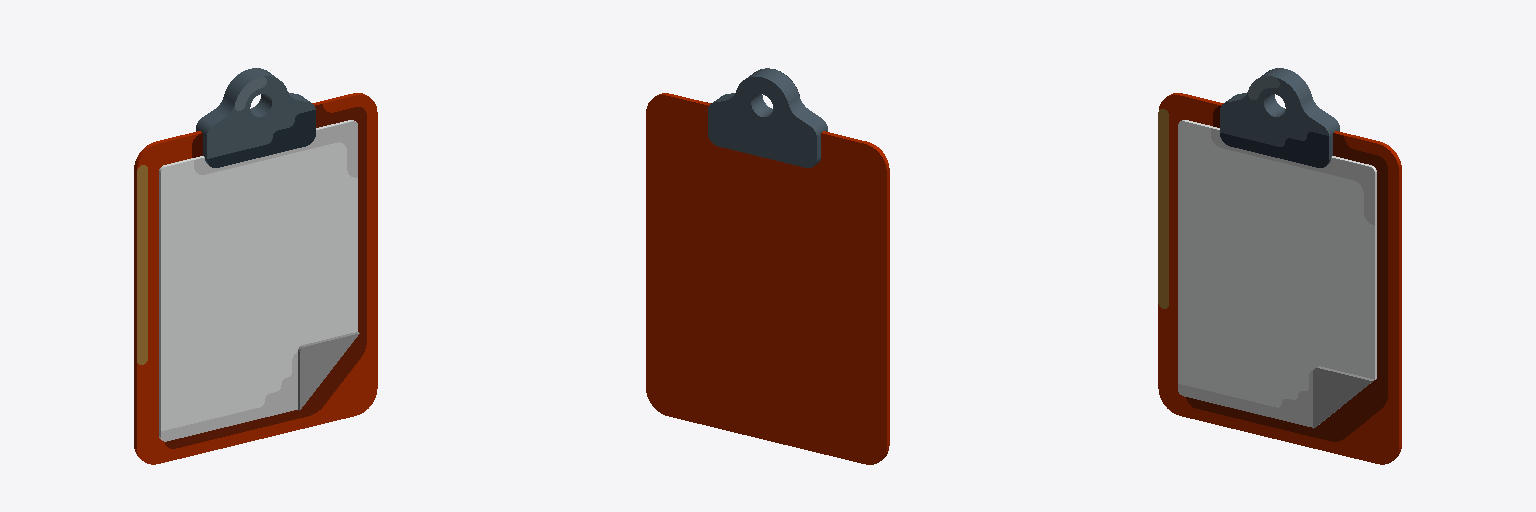
The model's file is 问卷板.obj.
3 renders of one model, left to right at view 1: azimuth 30°, elevation 25°; view 2: azimuth 150°, elevation 25°; view 3: azimuth 330°, elevation 25°, orthographic.
Visible parts, largest first — view 1: Curve.023_Curve.072, Curve.022_Curve.071, Curve.029_Curve.078, Curve.032_Curve.081, Curve.027_Curve.076, Curve.026_Curve.075, Curve.025_Curve.074, Curve.030_Curve.079, Curve.028_Curve.077; view 2: Curve.022_Curve.071, Curve.029_Curve.078; view 3: Curve.023_Curve.072, Curve.022_Curve.071, Curve.032_Curve.081, Curve.029_Curve.078, Curve.026_Curve.075, Curve.027_Curve.076, Curve.025_Curve.074, Curve.030_Curve.079, Curve.028_Curve.077.
Part boxes in pixels (x1,y1,x2,y2): Curve.023_Curve.072: (159, 120, 357, 439); Curve.022_Curve.071: (134, 93, 377, 464); Curve.029_Curve.078: (196, 68, 315, 164); Curve.032_Curve.081: (165, 104, 366, 448); Curve.027_Curve.076: (161, 352, 297, 441); Curve.026_Curve.075: (137, 165, 147, 364); Curve.025_Curve.074: (298, 332, 359, 410); Curve.030_Curve.079: (207, 110, 315, 167); Curve.028_Curve.077: (194, 121, 357, 177); Curve.022_Curve.071: (646, 93, 889, 464); Curve.029_Curve.078: (708, 68, 827, 167); Curve.023_Curve.072: (1178, 120, 1376, 424); Curve.022_Curve.071: (1158, 93, 1401, 464); Curve.032_Curve.081: (1186, 133, 1387, 441); Curve.029_Curve.078: (1220, 68, 1339, 164); Curve.026_Curve.075: (1158, 109, 1168, 308); Curve.027_Curve.076: (1178, 371, 1312, 427); Curve.025_Curve.074: (1313, 366, 1373, 428); Curve.030_Curve.079: (1220, 132, 1328, 167); Curve.028_Curve.077: (1211, 128, 1374, 224).
Size of the model in its own units: 6.7 by 9.74 by 0.5585.